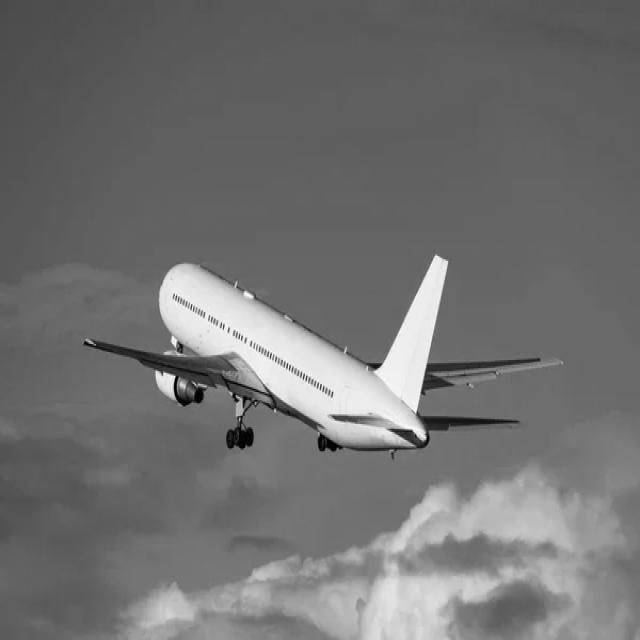Aircraft: (78, 229, 583, 479)
